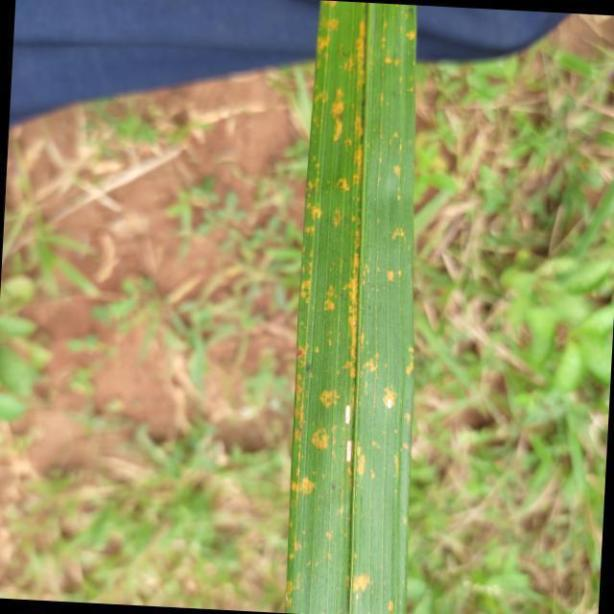Kalium: (285, 0, 419, 614)
